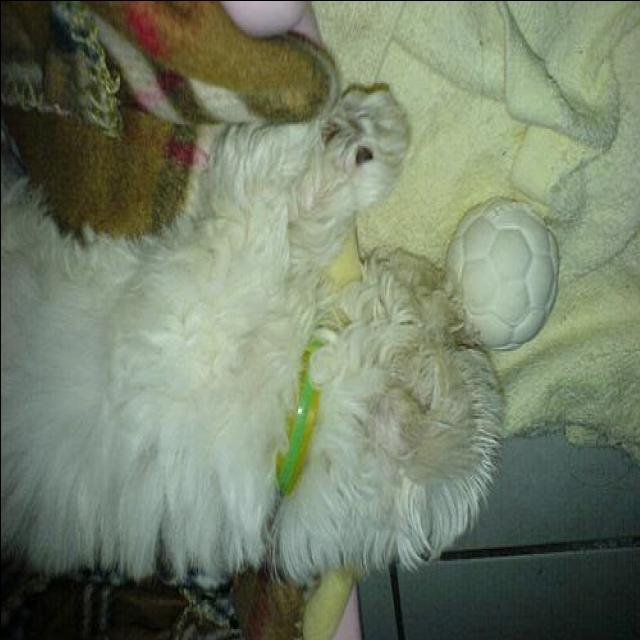maltese_dog: (0, 87, 500, 586)
